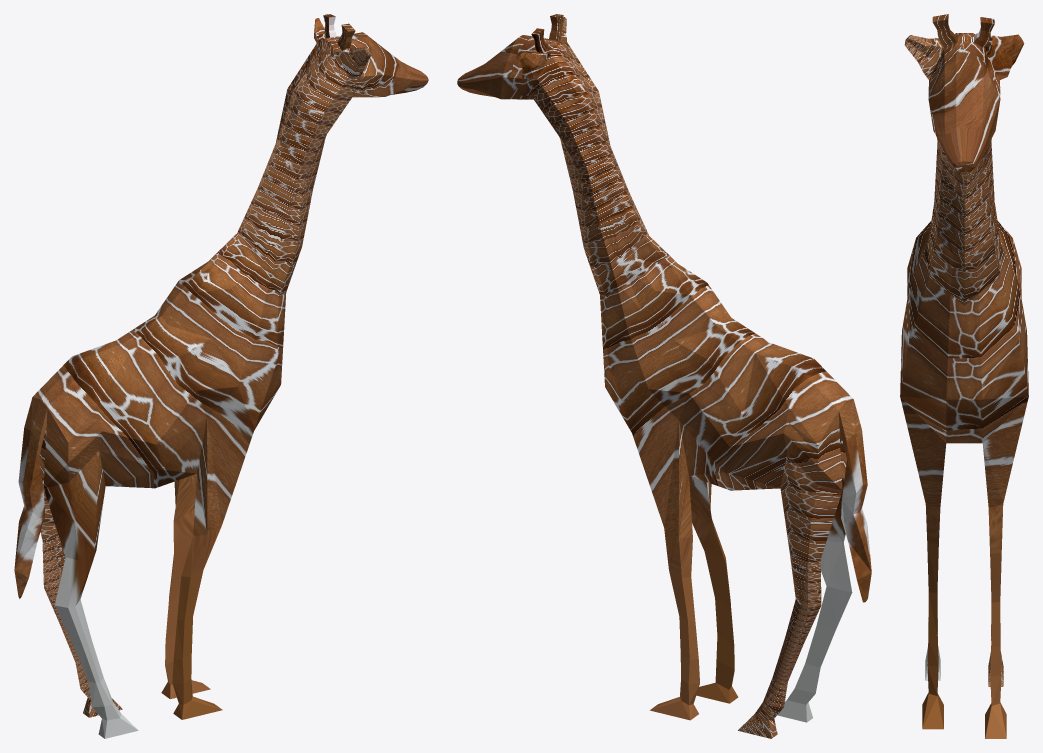
Rendered from giraffe-split.obj.
The picture shows the model from 3 angles, left to right: view 1: azimuth 30°, elevation 25°; view 2: azimuth 150°, elevation 25°; view 3: azimuth 270°, elevation 25°; orthographic projection. The views are drawn at different scales.
Parts seen in each view (by area): view 1: Body_Plane, Neck_Plane.002, Back_Right_Plane.004, Front_Right_Plane.003, Head_Plane.001, Tail_Plane.007, Front_Left_Plane.005, Back_Left_Plane.006; view 2: Body_Plane, Neck_Plane.002, Back_Left_Plane.006, Front_Left_Plane.005, Head_Plane.001, Back_Right_Plane.004, Front_Right_Plane.003, Tail_Plane.007; view 3: Body_Plane, Head_Plane.001, Neck_Plane.002, Front_Left_Plane.005, Front_Right_Plane.003.
Boxes of the visible parts, bbox=[...] form: Body_Plane: bbox=[33, 233, 286, 488]; Neck_Plane.002: bbox=[237, 89, 325, 297]; Back_Right_Plane.004: bbox=[43, 451, 138, 738]; Front_Right_Plane.003: bbox=[172, 418, 254, 719]; Head_Plane.001: bbox=[287, 14, 428, 139]; Tail_Plane.007: bbox=[14, 397, 47, 598]; Front_Left_Plane.005: bbox=[161, 473, 210, 699]; Back_Left_Plane.006: bbox=[40, 476, 122, 717]; Body_Plane: bbox=[600, 236, 853, 490]; Neck_Plane.002: bbox=[560, 91, 648, 299]; Back_Left_Plane.006: bbox=[738, 453, 842, 738]; Front_Left_Plane.005: bbox=[631, 420, 699, 720]; Head_Plane.001: bbox=[457, 14, 598, 141]; Back_Right_Plane.004: bbox=[777, 478, 852, 722]; Front_Right_Plane.003: bbox=[689, 476, 738, 703]; Tail_Plane.007: bbox=[839, 399, 871, 602]; Body_Plane: bbox=[900, 221, 1028, 443]; Head_Plane.001: bbox=[904, 14, 1024, 172]; Neck_Plane.002: bbox=[927, 138, 1001, 305]; Front_Left_Plane.005: bbox=[982, 397, 1028, 738]; Front_Right_Plane.003: bbox=[900, 397, 946, 729].
Size of the model in its own units: 9.04 by 13.61 by 2.
1 material, 1 textured.
